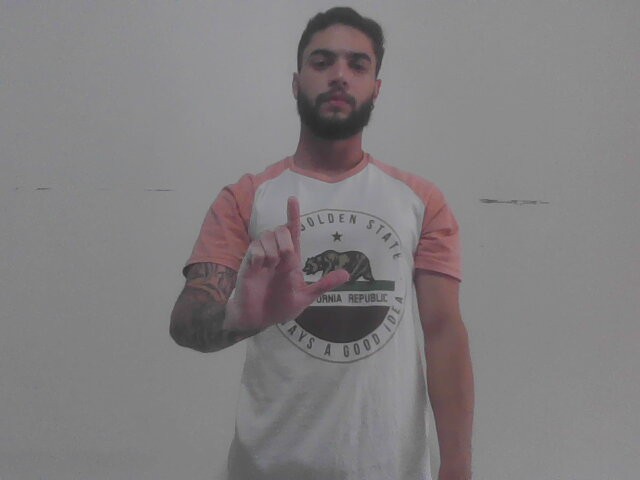l: (236, 190, 351, 332)
